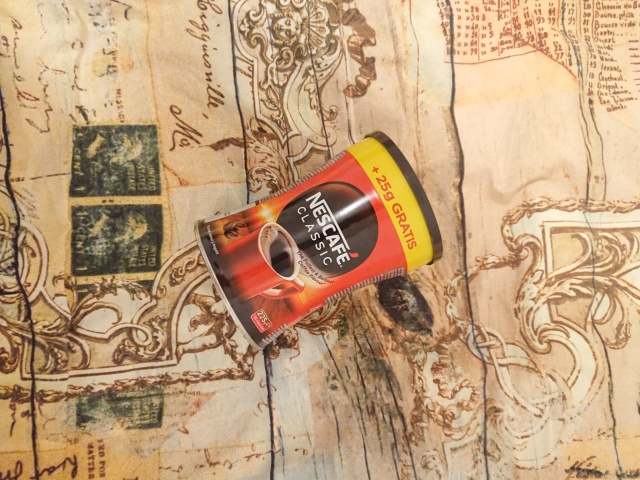Nescafe Classic 225g: (191, 127, 446, 353)
